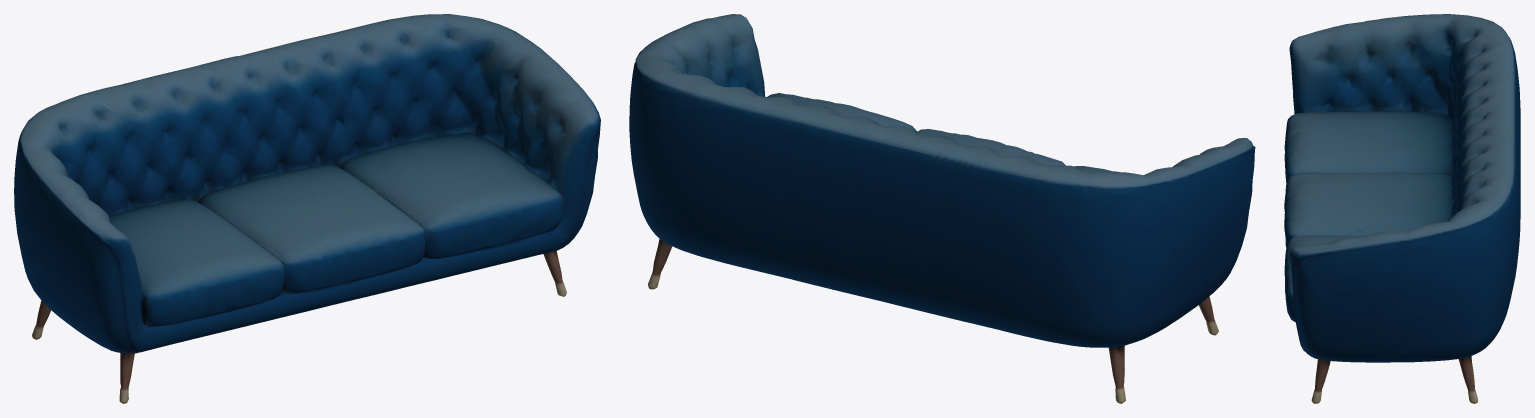
File: sofa_hotel.glb
3 renders of one model, left to right at view 1: azimuth 30°, elevation 25°; view 2: azimuth 150°, elevation 25°; view 3: azimuth 270°, elevation 25°, orthographic. The views are drawn at different scales.
Visible parts, largest first — view 1: tripo_node_4fd777cb-2936-4b8c-b111-f5787f398572; view 2: tripo_node_4fd777cb-2936-4b8c-b111-f5787f398572; view 3: tripo_node_4fd777cb-2936-4b8c-b111-f5787f398572.
Boxes of the visible parts, box(x1,y1,x2,y2) form: tripo_node_4fd777cb-2936-4b8c-b111-f5787f398572: box(14, 14, 600, 403); tripo_node_4fd777cb-2936-4b8c-b111-f5787f398572: box(629, 14, 1255, 403); tripo_node_4fd777cb-2936-4b8c-b111-f5787f398572: box(1284, 14, 1520, 403).
Bounding box in the file's own units: 1 × 0.399 × 0.4384.
Materials: 1 (1 with a texture image).
